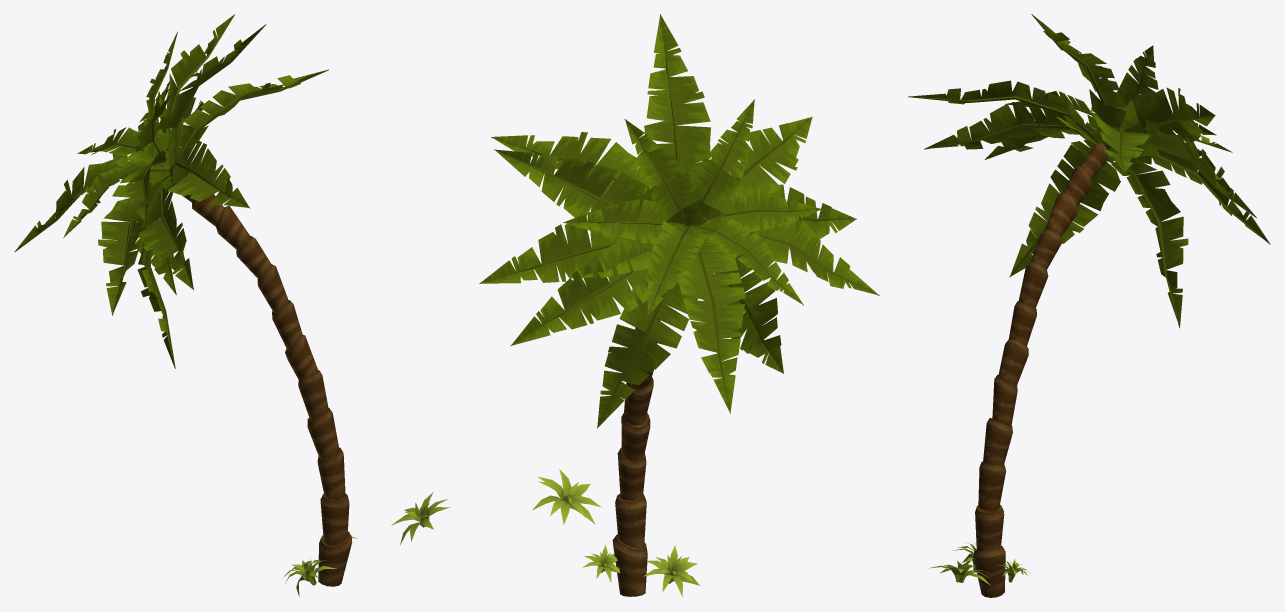
Rendered from arbol.fbx.
3 renders of one model, left to right at view 1: azimuth 30°, elevation 25°; view 2: azimuth 150°, elevation 25°; view 3: azimuth 270°, elevation 25°, orthographic. The views are drawn at different scales.
Visible parts, largest first — view 1: island.002; view 2: island.002; view 3: island.002.
Boxes of the visible parts, left/top/right/bottom form: island.002: left=14, top=14, right=449, bottom=596; island.002: left=479, top=14, right=879, bottom=597; island.002: left=908, top=14, right=1270, bottom=597.
Bounding box in the file's own units: 871 × 1421 × 837.
